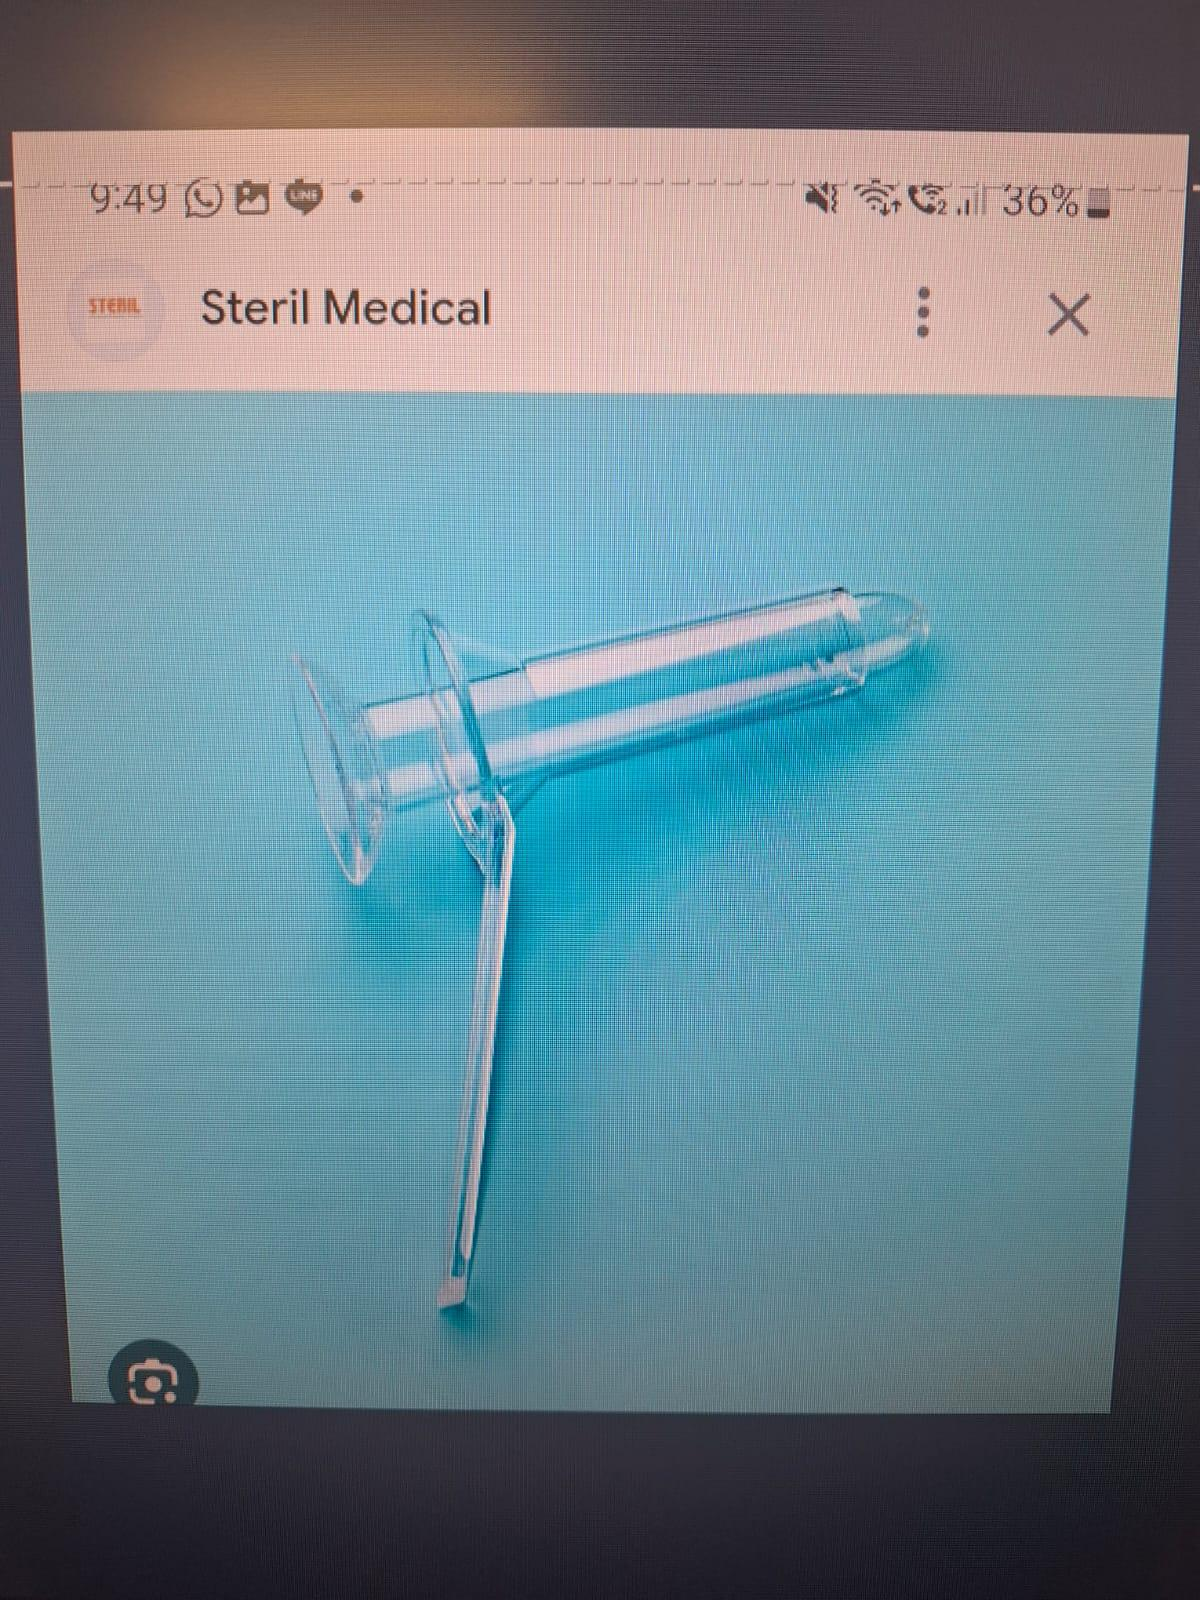Protoscope: (285, 575, 955, 1340)
